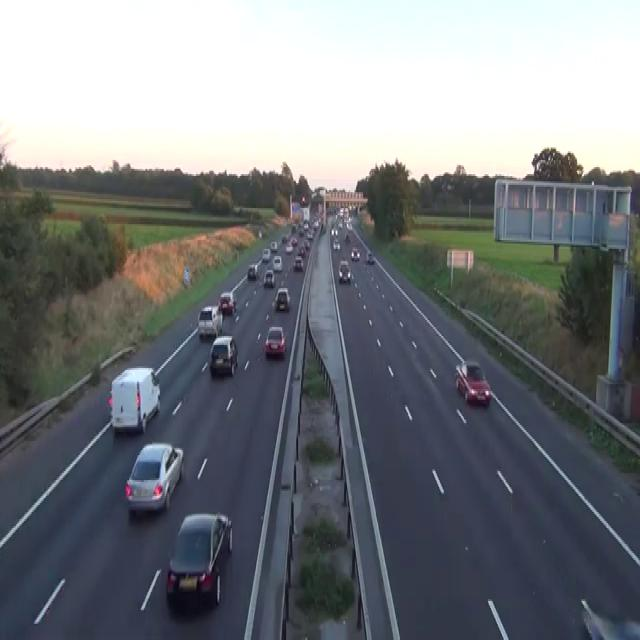Car: (165, 512, 232, 606), (124, 441, 184, 514), (580, 598, 639, 638), (454, 359, 491, 405), (209, 334, 237, 375), (197, 304, 223, 338), (264, 326, 286, 356), (272, 286, 290, 311), (218, 290, 236, 314), (338, 260, 352, 282), (263, 268, 275, 288), (247, 263, 257, 279), (293, 254, 303, 270), (272, 254, 282, 270), (350, 247, 360, 260), (261, 247, 270, 261), (366, 251, 374, 263), (332, 240, 340, 251), (285, 242, 293, 252), (330, 226, 338, 236), (270, 240, 277, 251), (298, 245, 305, 256), (303, 238, 310, 249), (339, 258, 348, 266), (281, 233, 288, 243), (298, 224, 304, 235), (290, 237, 297, 246), (346, 219, 352, 229), (312, 219, 318, 229), (306, 230, 313, 238), (344, 233, 350, 242), (291, 224, 297, 233), (303, 220, 308, 230), (300, 196, 306, 204), (338, 220, 342, 230), (258, 230, 262, 238)
Truck: (107, 366, 160, 434)
